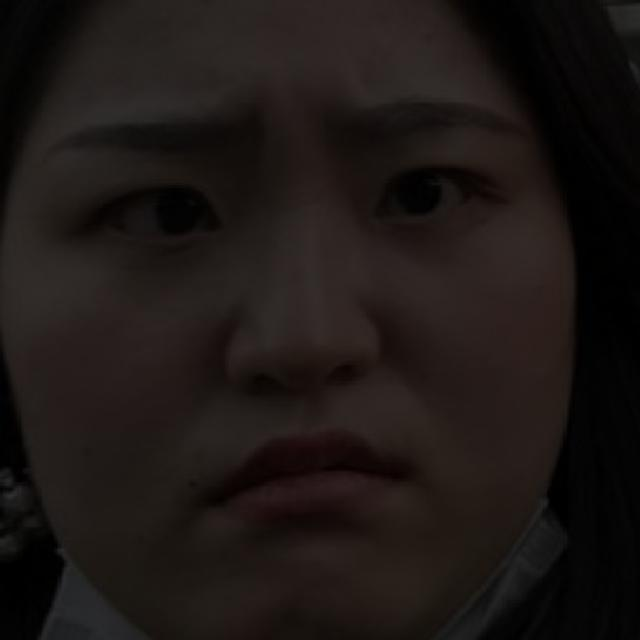Disgust: (29, 70, 588, 611)
